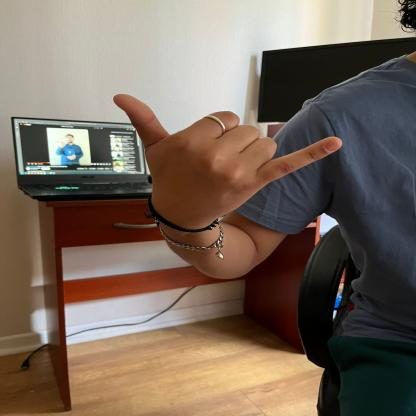Y: (109, 90, 346, 213)
